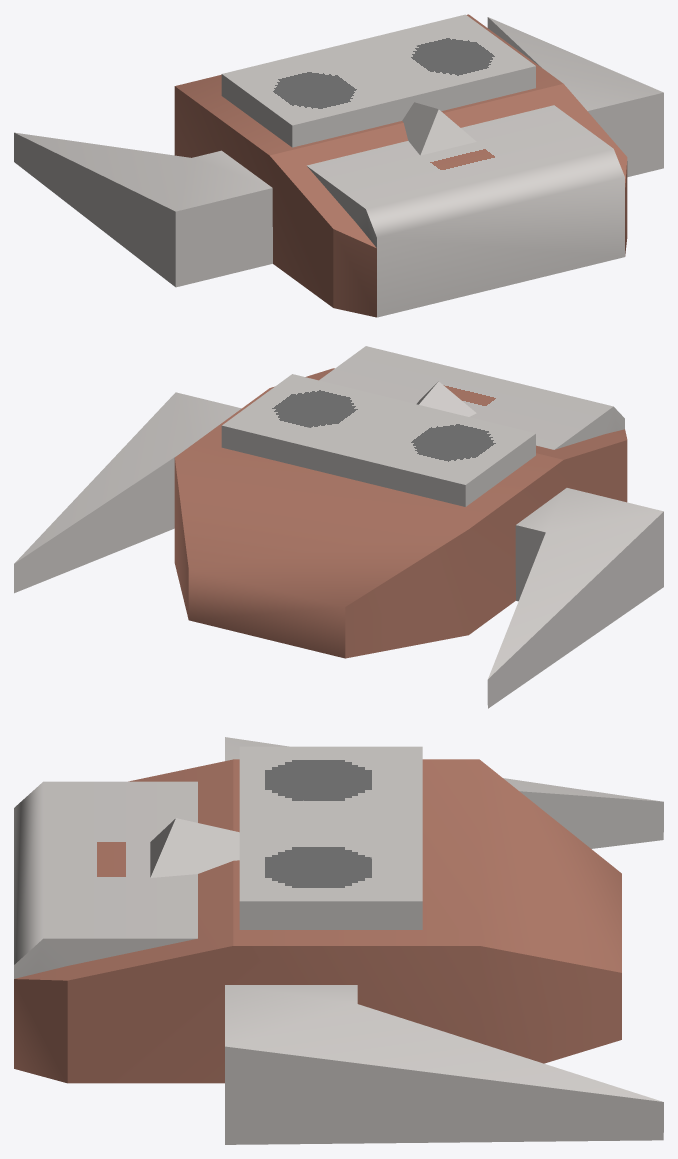
The model's file is 003b_Jumboman_Mask.glb.
3 views of the same model, one above another, from view 1: azimuth 30°, elevation 25°; view 2: azimuth 150°, elevation 25°; view 3: azimuth 270°, elevation 25° (orthographic). The views are drawn at different scales.
Parts seen in each view (by area): view 1: part_0; view 2: part_0; view 3: part_0.
Boxes of the visible parts, x1=… form: part_0: x1=14, y1=14, x2=663, y2=317; part_0: x1=14, y1=346, x2=663, y2=708; part_0: x1=14, y1=737, x2=663, y2=1144.
Bounding box in the file's own units: 0.3031 × 0.0786 × 0.269.
1 material, 1 textured.
